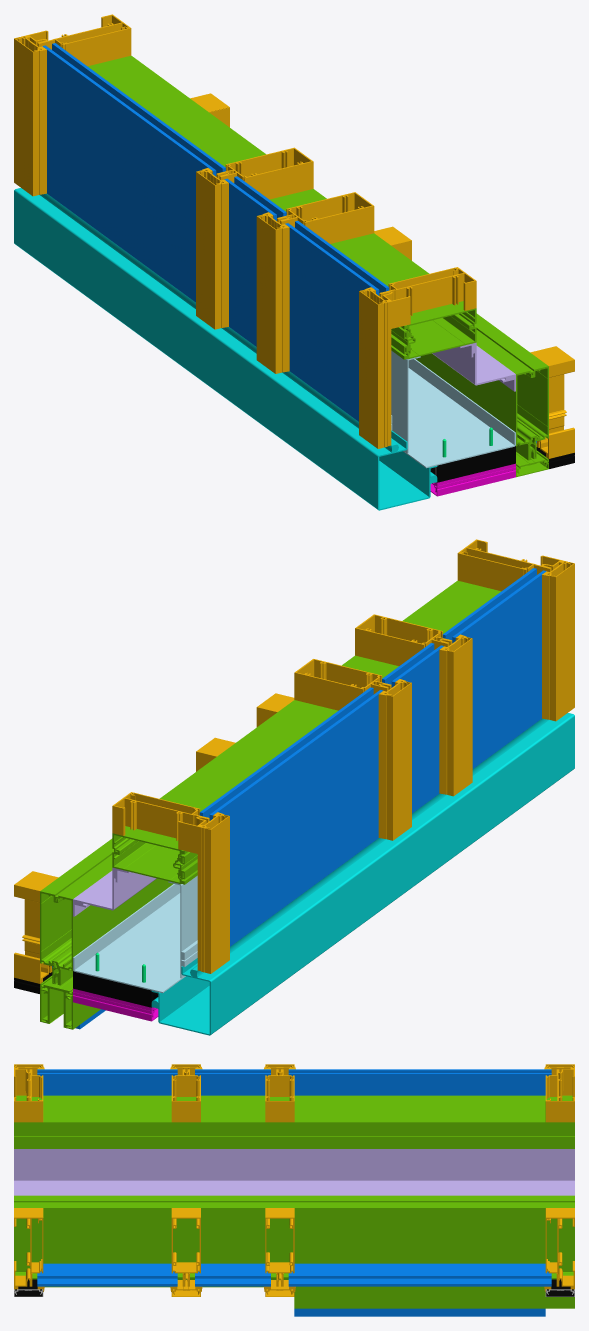
The model's file is Fin-Corner-Model-V2.glb.
The picture shows the model from 3 angles, top to bottom: view 1: azimuth 30°, elevation 25°; view 2: azimuth 150°, elevation 25°; view 3: azimuth 270°, elevation 25°; orthographic projection. The views are drawn at different scales.
Visible parts, largest first — view 1: Body10, Body115, Body113, Body3, Body14, Body114, Body2, Body92, Body96, Body109, Body100, Body103 (+18 smaller); view 2: Body10, Body115, Body113, Body3, Body14, Body114, Body2, Body92, Body96, Body100, Body109, Body1 (+20 smaller); view 3: Body1, Body9, Body3, Body4, Body115, Body63, Body12, Body2, Body113, Body61, Body45, Body114 (+11 smaller).
Part boxes in pixels (<box>): Body10: <box>14,188,437,510</box>; Body115: <box>42,43,225,302</box>; Body113: <box>285,220,389,421</box>; Body3: <box>88,55,476,344</box>; Body14: <box>403,359,515,468</box>; Body114: <box>224,176,286,346</box>; Body2: <box>415,330,536,460</box>; Body92: <box>359,289,384,448</box>; Body96: <box>14,37,39,196</box>; Body109: <box>196,170,221,329</box>; Body100: <box>256,214,281,373</box>; Body103: <box>277,192,374,243</box>; Body10: <box>151,713,574,1035</box>; Body115: <box>199,687,383,946</box>; Body113: <box>442,568,546,768</box>; Body3: <box>112,580,500,869</box>; Body14: <box>73,884,185,993</box>; Body114: <box>382,643,443,813</box>; Body2: <box>52,855,173,985</box>; Body92: <box>549,562,574,721</box>; Body96: <box>204,814,229,973</box>; Body100: <box>447,637,472,796</box>; Body109: <box>386,681,411,840</box>; Body1: <box>40,838,113,983</box>; Body1: <box>14,1202,574,1271</box>; Body9: <box>14,1149,574,1195</box>; Body3: <box>14,1096,574,1136</box>; Body4: <box>14,1136,574,1148</box>; Body115: <box>288,1069,551,1095</box>; Body63: <box>288,1263,551,1286</box>; Body12: <box>294,1286,574,1308</box>; Body2: <box>14,1195,574,1202</box>; Body113: <box>37,1069,177,1095</box>; Body61: <box>37,1263,177,1286</box>; Body45: <box>294,1308,545,1316</box>; Body114: <box>195,1069,270,1095</box>.
Bounding box in the file's own units: 381 × 462 × 1219.
